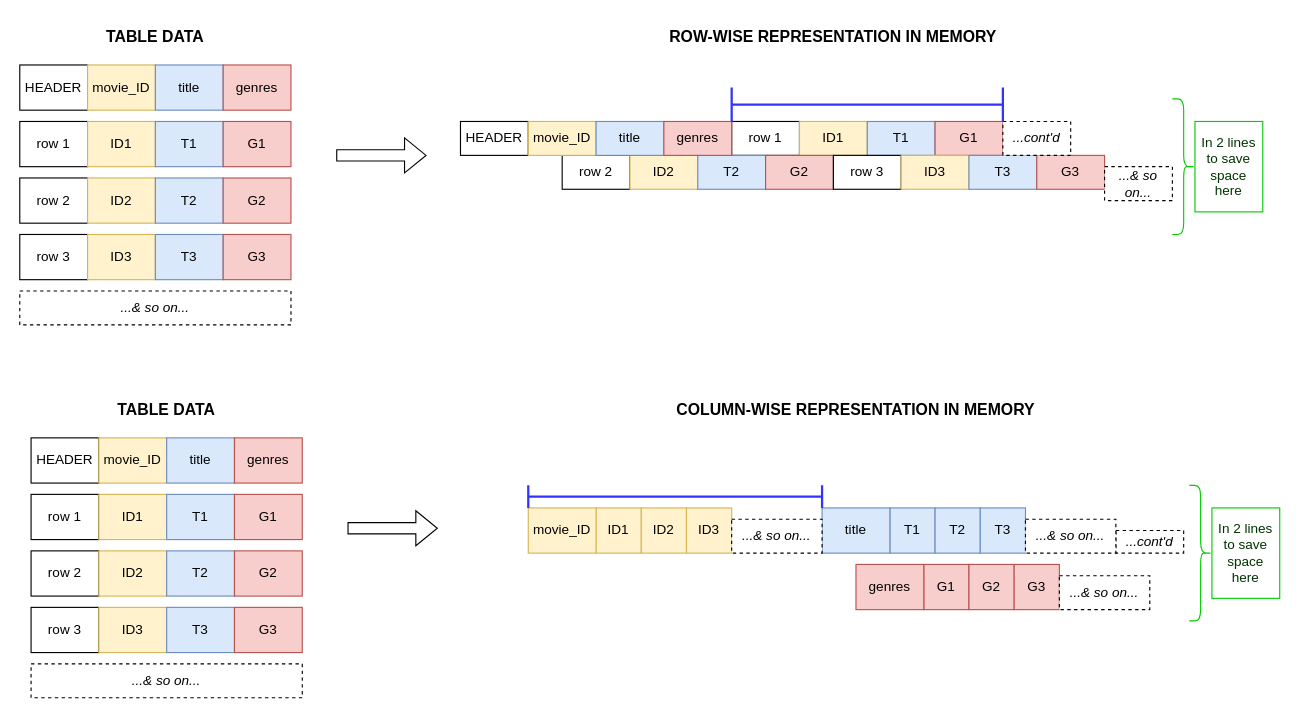
This 1300x718 diagram has some shape labels left out. Each missing label, with the box of its shape:
All fields in the row stored contiguously: (730, 86, 1003, 122)
All values in the column stored contiguously: (527, 484, 823, 508)
